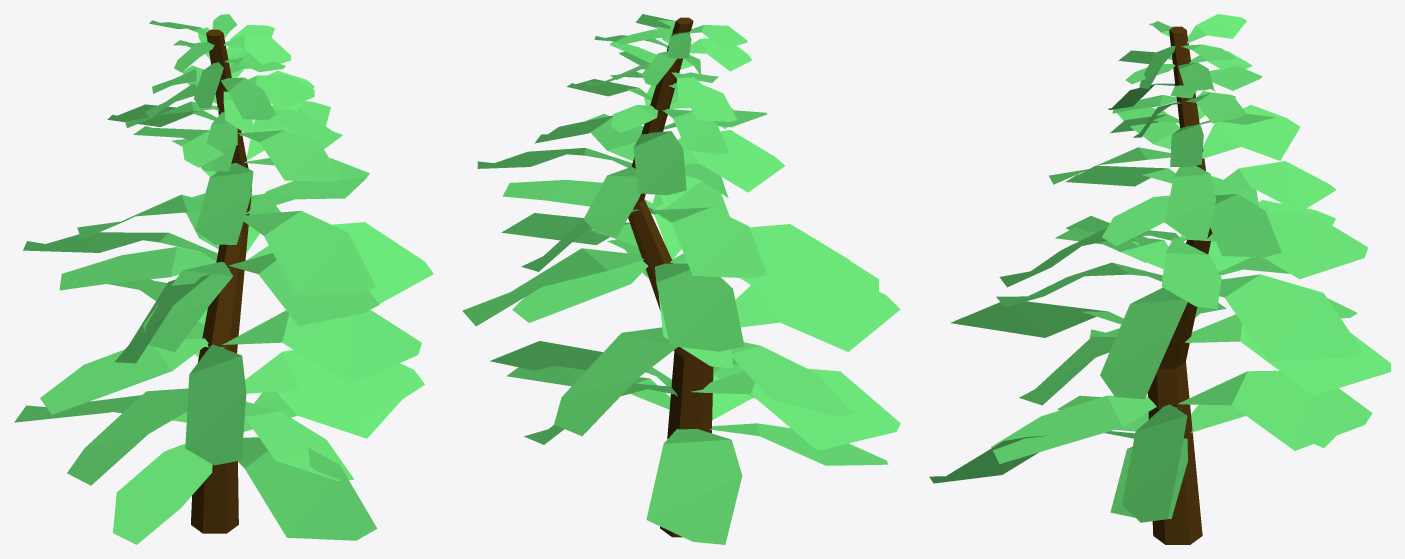
The model's file is flowy-tree.glb.
3 renders of one model, left to right at view 1: azimuth 30°, elevation 25°; view 2: azimuth 150°, elevation 25°; view 3: azimuth 270°, elevation 25°, orthographic. The views are drawn at different scales.
Visible parts, largest first — view 1: Plane.003, Plane.008, Cylinder, Plane.021, Plane.011, Plane.007, Plane.002, Plane.010, Plane.005, Plane.017, Plane.014, Plane.012 (+25 smaller); view 2: Plane.001, Plane.015, Cylinder, Plane.005, Plane.019, Plane.009, Plane.020, Plane.011, Plane.010, Plane.013, Plane.018, Plane.025 (+26 smaller); view 3: Plane.013, Plane.004, Cylinder, Plane.017, Plane.007, Plane.006, Plane.009, Plane.023, Plane.011, Plane.027, Plane.024, Plane.029 (+21 smaller).
Part boxes in pixels (x1,y1,x2,y2): Plane.003: (238, 437, 377, 540); Plane.008: (222, 309, 421, 384); Cylinder: (191, 29, 251, 533); Plane.021: (243, 210, 375, 294); Plane.011: (185, 344, 246, 465); Plane.007: (245, 350, 424, 421); Plane.002: (113, 443, 212, 544); Plane.010: (40, 338, 208, 414); Plane.005: (67, 388, 188, 485); Plane.017: (247, 222, 433, 303); Plane.014: (59, 247, 216, 290); Plane.012: (228, 253, 379, 325); Plane.001: (646, 428, 742, 544); Plane.015: (673, 236, 878, 318); Cylinder: (628, 17, 713, 537); Plane.005: (691, 368, 900, 450); Plane.019: (655, 263, 744, 351); Plane.009: (554, 327, 677, 436); Plane.020: (652, 207, 767, 278); Plane.011: (735, 285, 900, 351); Plane.010: (731, 342, 853, 416); Plane.013: (462, 248, 644, 326); Plane.018: (512, 260, 648, 322); Plane.025: (678, 130, 784, 192); Plane.013: (1219, 274, 1362, 361); Plane.004: (1178, 371, 1372, 450); Cylinder: (1147, 26, 1212, 544); Plane.017: (1100, 287, 1187, 399); Plane.007: (1122, 404, 1187, 522); Plane.006: (991, 395, 1181, 463); Plane.009: (1184, 314, 1390, 395); Plane.023: (1180, 213, 1368, 279); Plane.011: (951, 301, 1123, 337); Plane.027: (1210, 194, 1281, 257); Plane.024: (1213, 161, 1336, 212); Plane.029: (1202, 105, 1300, 160).
Bounding box in the file's own units: 6.64 × 8.46 × 6.96.
